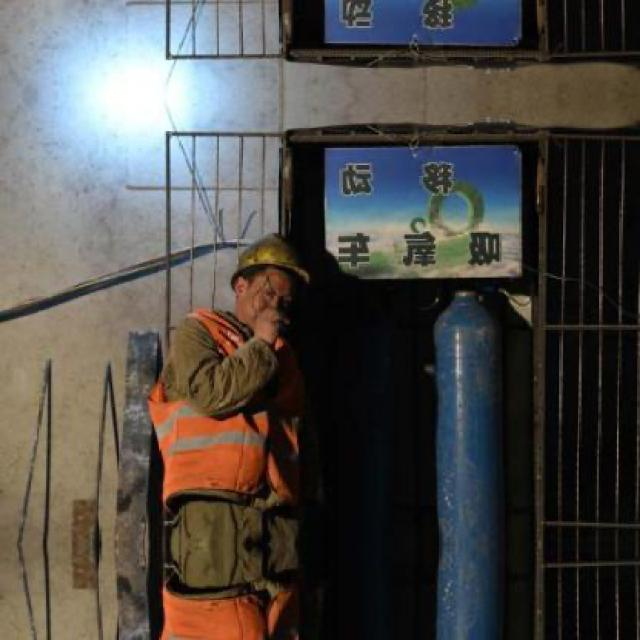con casco: (225, 236, 318, 319)
